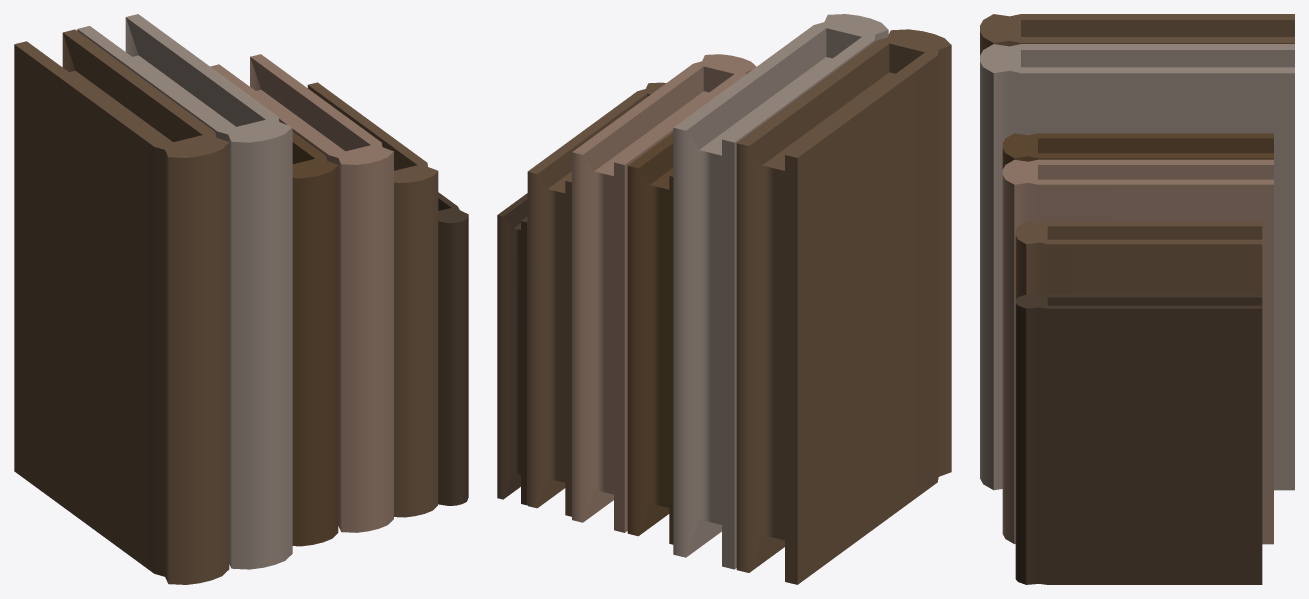
File: colored book1 bedroom.fbx
3 views of the same model, side by side, from view 1: azimuth 30°, elevation 25°; view 2: azimuth 150°, elevation 25°; view 3: azimuth 270°, elevation 25° (orthographic). The views are drawn at different scales.
Parts seen in each view (by area): view 1: pCube5, pCube1, pCube3, pCube2, pCube4, pCube6; view 2: pCube5, pCube1, pCube3, pCube2, pCube4, pCube6; view 3: pCube6, pCube1, pCube3, pCube4, pCube5, pCube2.
Part boxes in pixels (x1=…): pCube5: x1=14, y1=29, x2=229, y2=584; pCube1: x1=77, y1=14, x2=292, y2=569; pCube3: x1=210, y1=54, x2=393, y2=532; pCube2: x1=292, y1=132, x2=338, y2=546; pCube4: x1=307, y1=82, x2=438, y2=517; pCube6: x1=438, y1=192, x2=468, y2=505; pCube5: x1=736, y1=29, x2=951, y2=584; pCube1: x1=673, y1=14, x2=888, y2=569; pCube3: x1=572, y1=54, x2=756, y2=532; pCube2: x1=627, y1=132, x2=673, y2=544; pCube4: x1=527, y1=82, x2=665, y2=516; pCube6: x1=497, y1=193, x2=527, y2=505; pCube6: x1=1015, y1=294, x2=1262, y2=584; pCube1: x1=980, y1=44, x2=1294, y2=490; pCube3: x1=1002, y1=159, x2=1273, y2=544; pCube4: x1=1015, y1=221, x2=1262, y2=299; pCube5: x1=980, y1=14, x2=1294, y2=55; pCube2: x1=1002, y1=133, x2=1273, y2=169.
Size of the model in its own units: 0.2328 by 0.3017 by 0.2049.
